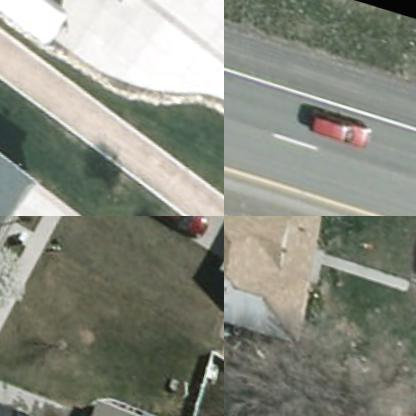camping car: (0, 0, 79, 51)
car: (300, 102, 370, 147), (132, 216, 210, 238), (403, 216, 415, 278)
